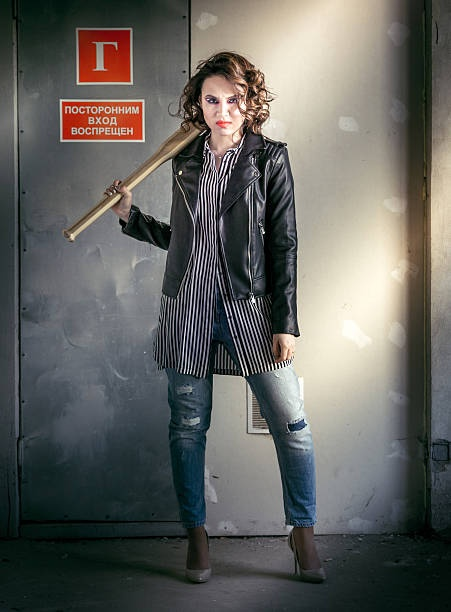bita: (65, 115, 201, 240)
